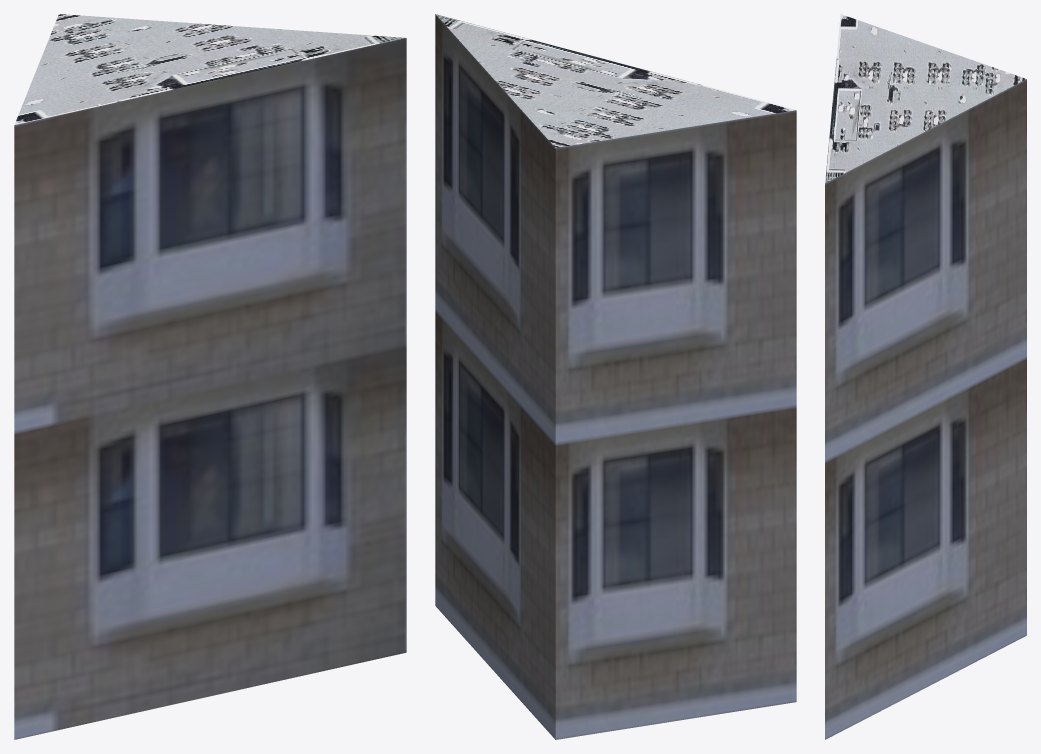
Rendered from ResTex__3992.fbx.
3 views of the same model, side by side, from view 1: azimuth 30°, elevation 25°; view 2: azimuth 150°, elevation 25°; view 3: azimuth 270°, elevation 25° (orthographic). The views are drawn at different scales.
Parts seen in each view (by area): view 1: CityEngineMaterial_3_m, CityEngineMaterial_m; view 2: CityEngineMaterial_3_m, CityEngineMaterial_m; view 3: CityEngineMaterial_3_m, CityEngineMaterial_m.
Part boxes in pixels (left/top/right/bottom): CityEngineMaterial_3_m: left=14, top=38, right=406, bottom=739; CityEngineMaterial_m: left=14, top=14, right=405, bottom=124; CityEngineMaterial_3_m: left=435, top=14, right=796, bottom=739; CityEngineMaterial_m: left=436, top=14, right=795, bottom=147; CityEngineMaterial_3_m: left=825, top=79, right=1026, bottom=739; CityEngineMaterial_m: left=825, top=14, right=1026, bottom=183.
Bounding box in the file's own units: 3.92 × 6 × 1.97.
Materials: 2 (2 with a texture image).
